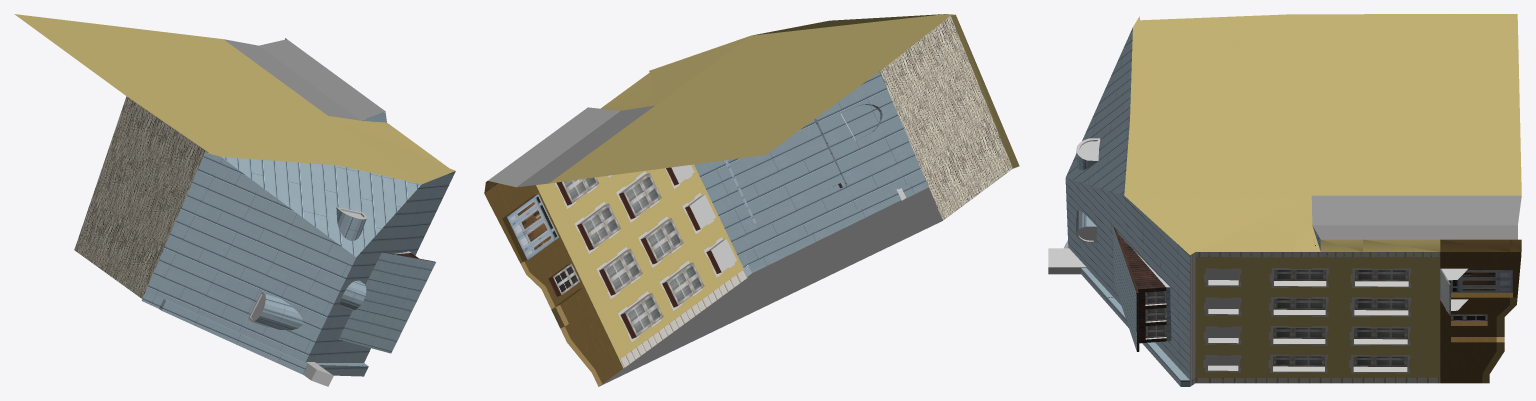
The model's file is Lyhike_jalg_6.obj.
The picture shows the model from 3 angles, left to right: view 1: azimuth 30°, elevation 25°; view 2: azimuth 150°, elevation 25°; view 3: azimuth 270°, elevation 25°; orthographic projection.
Visible parts, largest first — view 1: Lyhike_Jalg_6; view 2: Lyhike_Jalg_6; view 3: Lyhike_Jalg_6.
Part boxes in pixels (x1=…): Lyhike_Jalg_6: x1=14, y1=14, x2=455, y2=386; Lyhike_Jalg_6: x1=484, y1=14, x2=1019, y2=386; Lyhike_Jalg_6: x1=1048, y1=14, x2=1521, y2=386.
Bounding box in the file's own units: 18.26 × 14.6 × 22.05.
